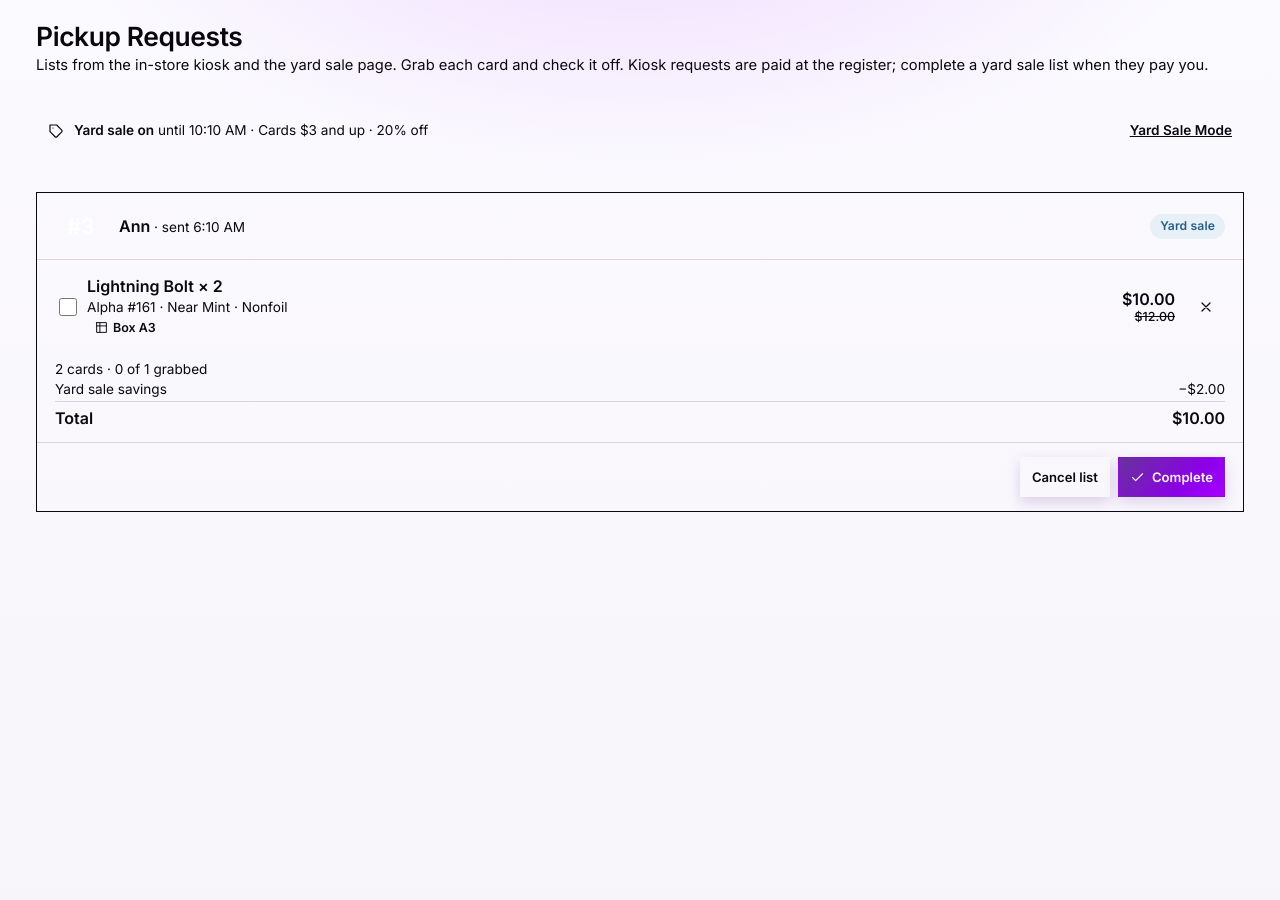
Test: yard sale lists in Pickup Requests › completes a list paid by Venmo
The width and height of the screenshot is (1280, 900).
Click the button "Complete" at [1171, 477], box [1118,457,1225,497]
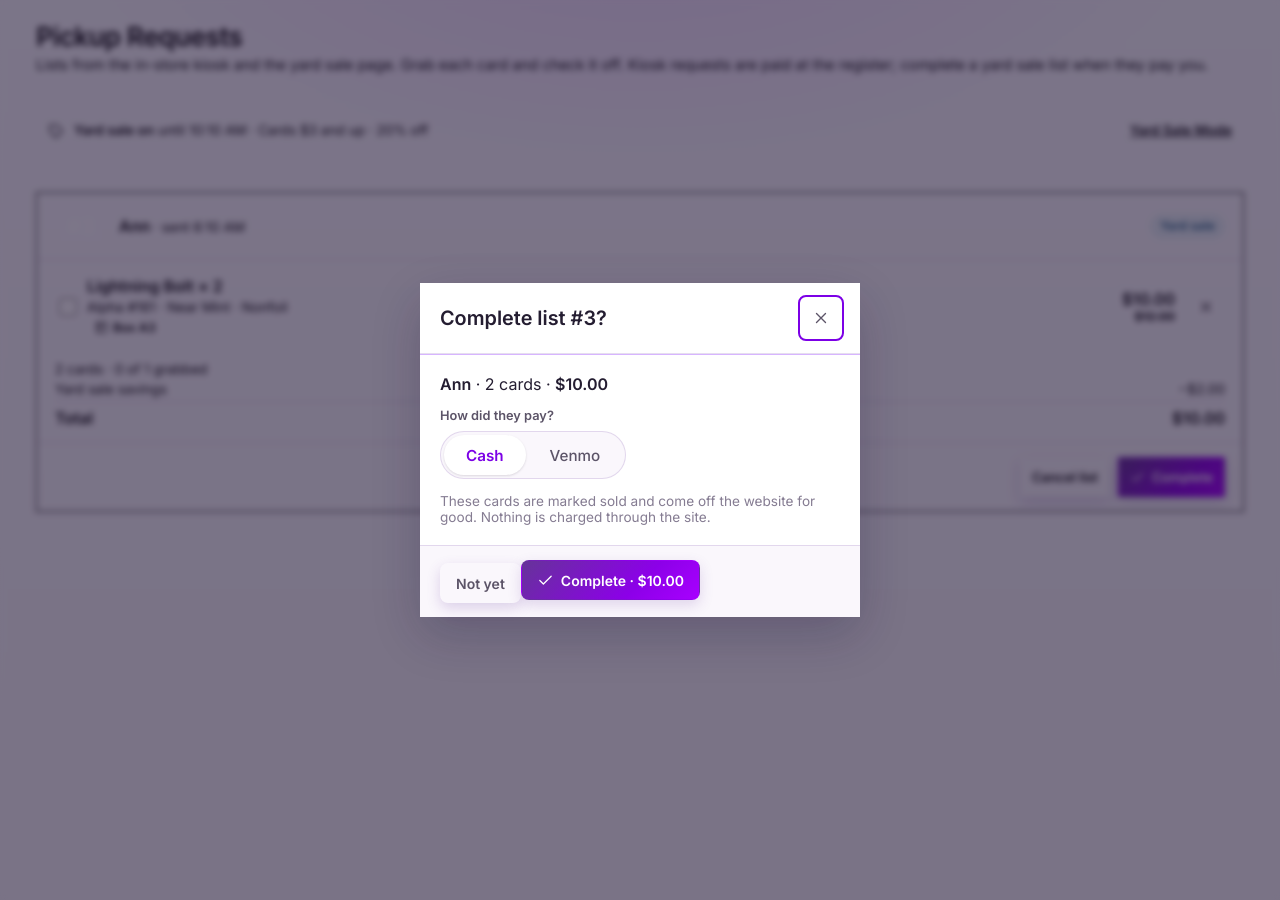
Click the radio button labelled "Venmo" at [575, 455], box [528,435,622,475]
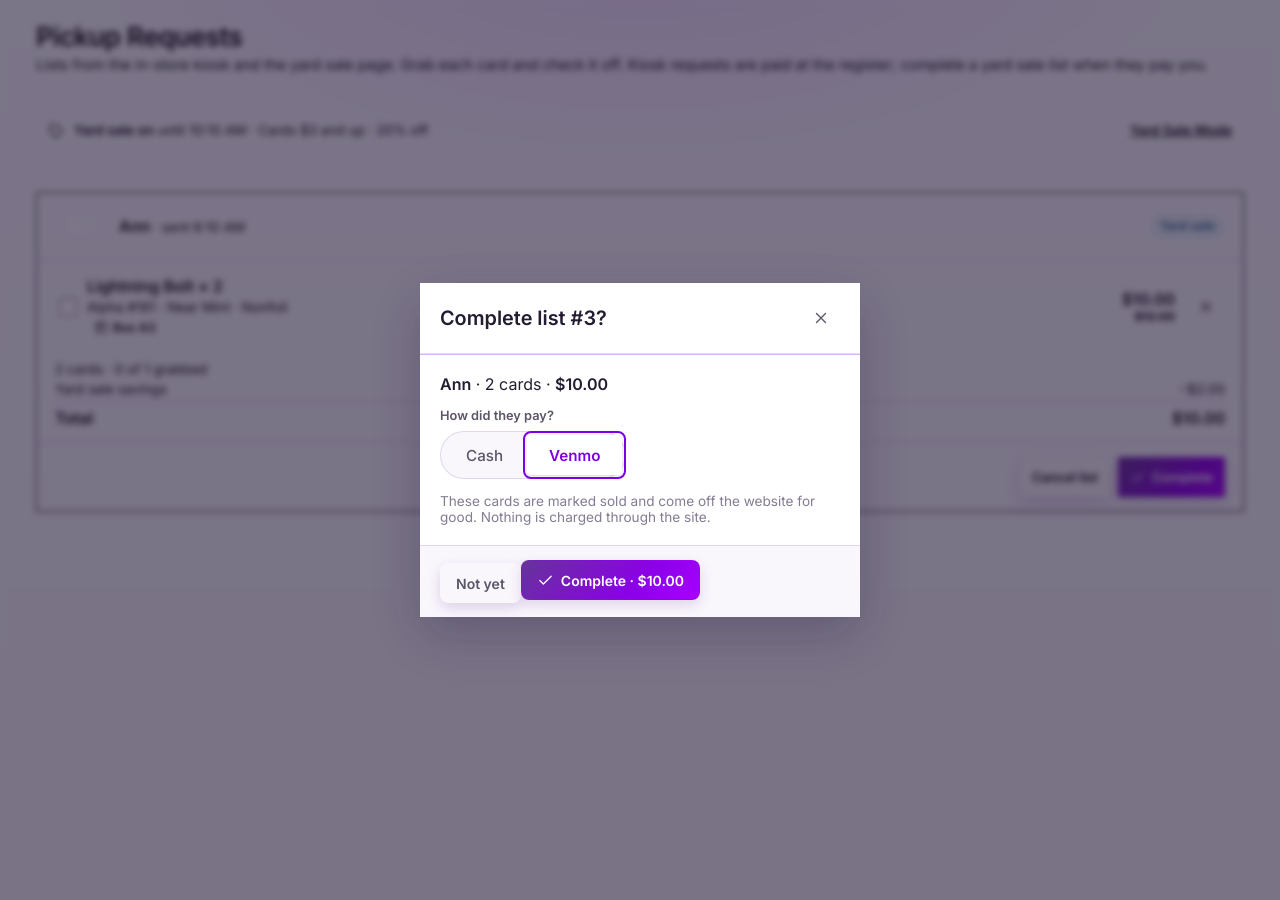
Click the button "Complete · $10.00" at [610, 580], box [521,560,700,600]
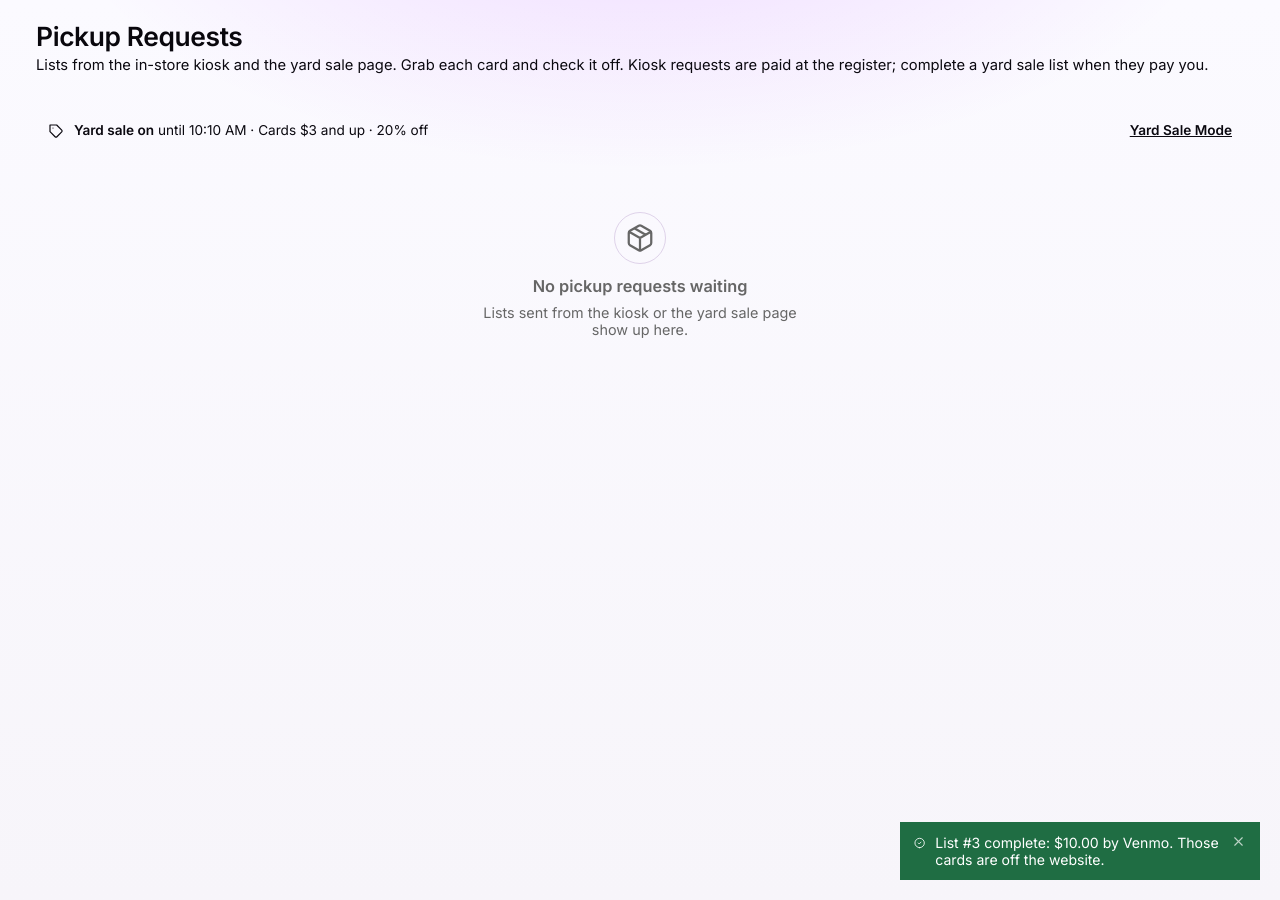
Result: the text "List #3 complete: $10.00 by Venmo" is shown at [935,834,1219,868]
